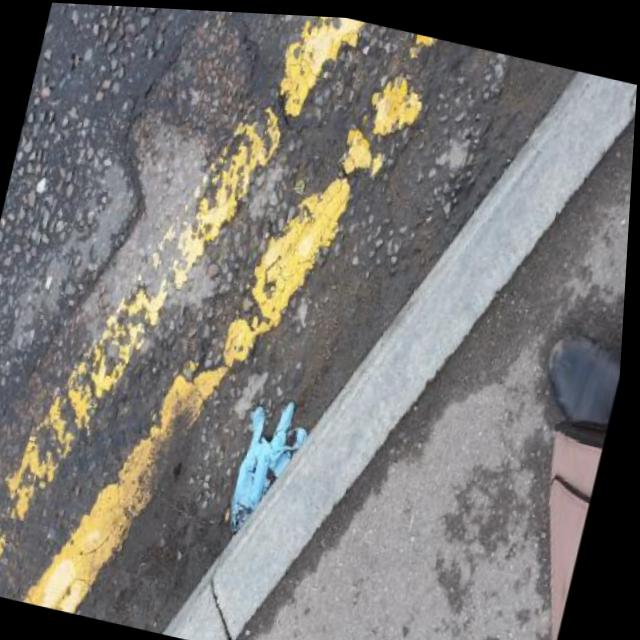plastic: (225, 392, 316, 547)
